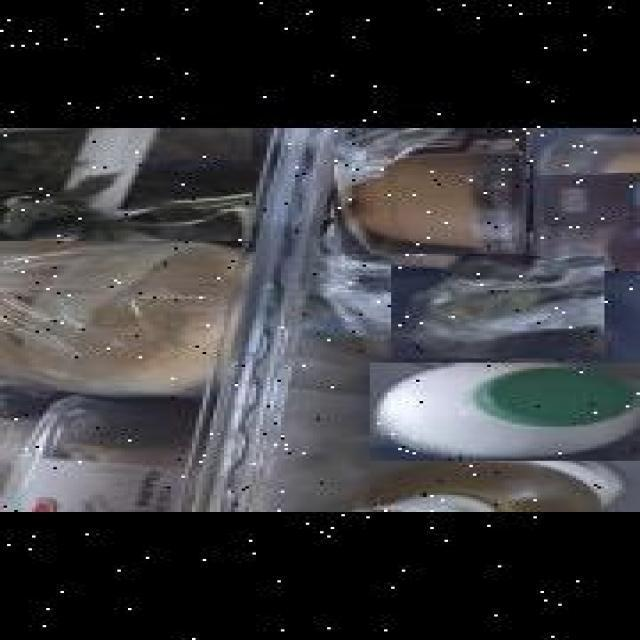green_beans: (387, 255, 601, 358)
humus: (330, 128, 522, 254), (526, 128, 640, 271)
milk: (366, 362, 640, 460)
pineapple: (0, 128, 249, 241)
turkey: (0, 392, 217, 512)
